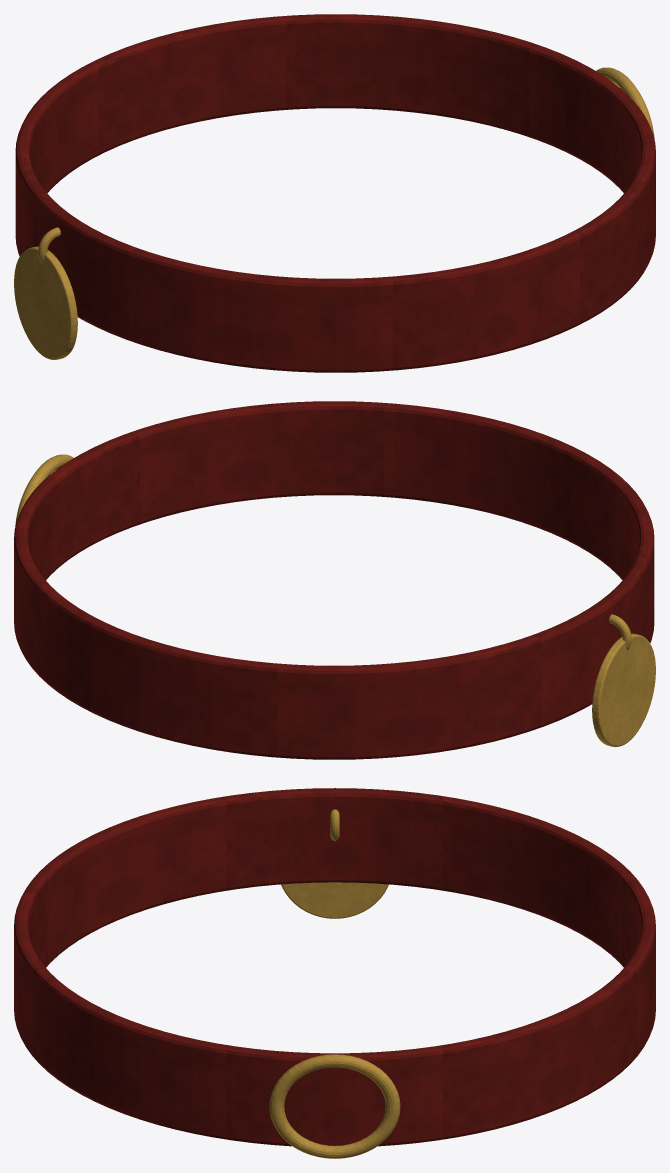
3 renders of one model, top to bottom at view 1: azimuth 30°, elevation 25°; view 2: azimuth 150°, elevation 25°; view 3: azimuth 270°, elevation 25°, orthographic.
Parts seen in each view (by area): view 1: band, marke, schnalle; view 2: band, marke, schnalle; view 3: band, schnalle, marke.
Boxes of the visible parts, left/top/right/bottom form: band: left=15, top=14, right=655, bottom=372; marke: left=14, top=246, right=77, bottom=359; schnalle: left=596, top=67, right=654, bottom=138; band: left=14, top=401, right=654, bottom=759; marke: left=592, top=633, right=655, bottom=746; schnalle: left=15, top=454, right=73, bottom=525; band: left=14, top=788, right=655, bottom=1146; schnalle: left=269, top=1054, right=400, bottom=1158; marke: left=281, top=882, right=388, bottom=918.
Bounding box in the file's own units: 0.1881 × 0.0438 × 0.178.
4 materials, 4 textured.
